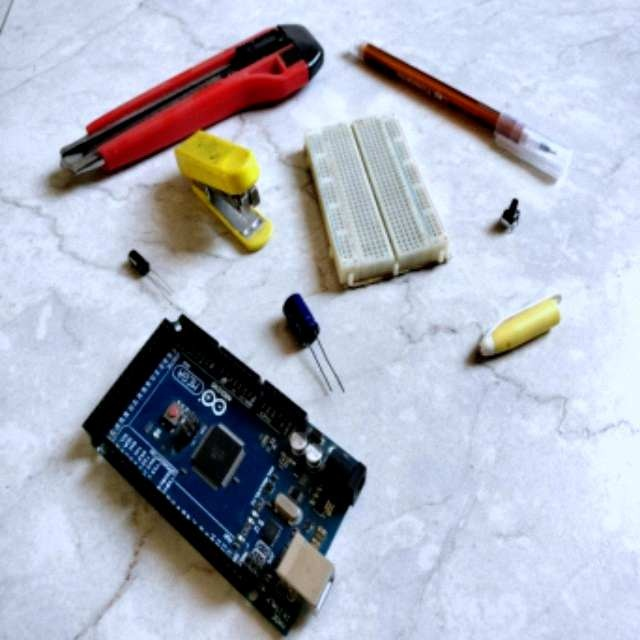capacitor: (283, 293, 319, 344), (124, 250, 150, 279)
